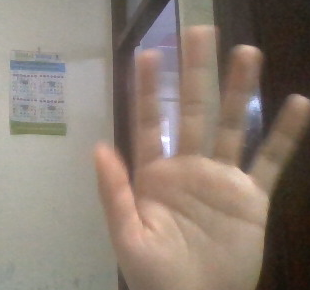move: (93, 13, 310, 256)
